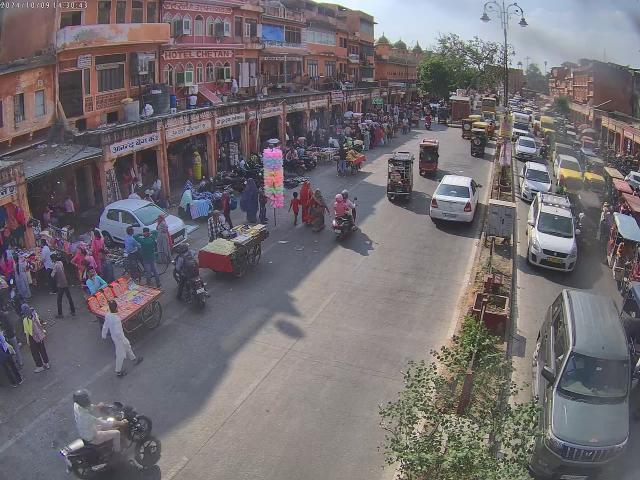auto: (88, 280, 164, 334), (605, 214, 640, 284), (384, 150, 416, 205), (417, 137, 440, 177), (469, 130, 486, 156), (628, 166, 640, 194), (461, 118, 475, 138)
car: (530, 278, 640, 480), (524, 192, 582, 274), (96, 197, 188, 248), (428, 174, 481, 228), (518, 161, 554, 203), (513, 136, 542, 161), (511, 112, 533, 133)
helmet: (70, 388, 92, 406), (336, 190, 349, 200), (338, 198, 339, 198)
license_plate: (545, 255, 565, 268)
motorbike: (298, 153, 318, 170)
motorbike-rider: (59, 388, 154, 480), (170, 241, 208, 306), (620, 308, 640, 360)
person: (104, 298, 142, 376), (19, 301, 52, 375), (132, 226, 162, 289), (48, 256, 74, 314), (308, 188, 328, 232), (240, 178, 260, 222), (81, 268, 108, 300), (205, 209, 232, 239), (423, 115, 433, 130), (334, 194, 346, 203)
scooty-rider: (0, 309, 22, 387), (329, 191, 358, 242)
vendor: (198, 226, 266, 280), (336, 146, 366, 176)
